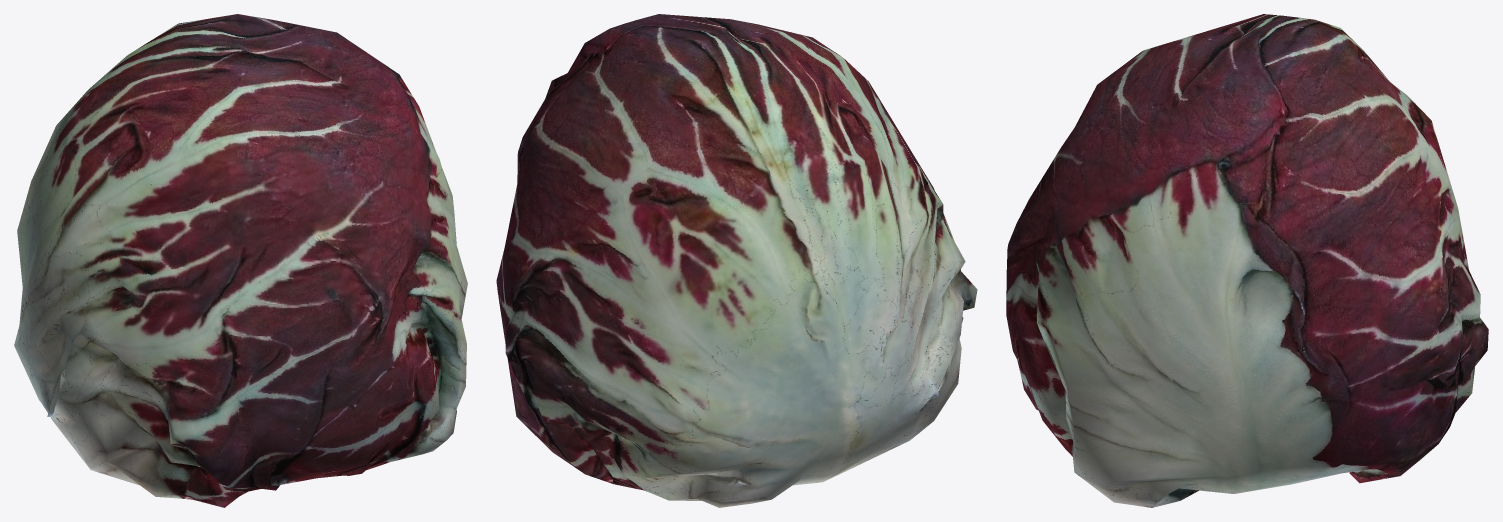
Rendered from 75_radicchio.glb.
The picture shows the model from 3 angles, left to right: view 1: azimuth 30°, elevation 25°; view 2: azimuth 150°, elevation 25°; view 3: azimuth 270°, elevation 25°; orthographic projection. The views are drawn at different scales.
Visible parts, largest first — view 1: 75_radicchio; view 2: 75_radicchio; view 3: 75_radicchio.
Part boxes in pixels (x1=…): 75_radicchio: x1=14, y1=14, x2=467, y2=507; 75_radicchio: x1=496, y1=14, x2=977, y2=507; 75_radicchio: x1=1006, y1=14, x2=1488, y2=507.
Size of the model in its own units: 0.7994 by 0.8181 by 0.8369.
1 material, 1 textured.
